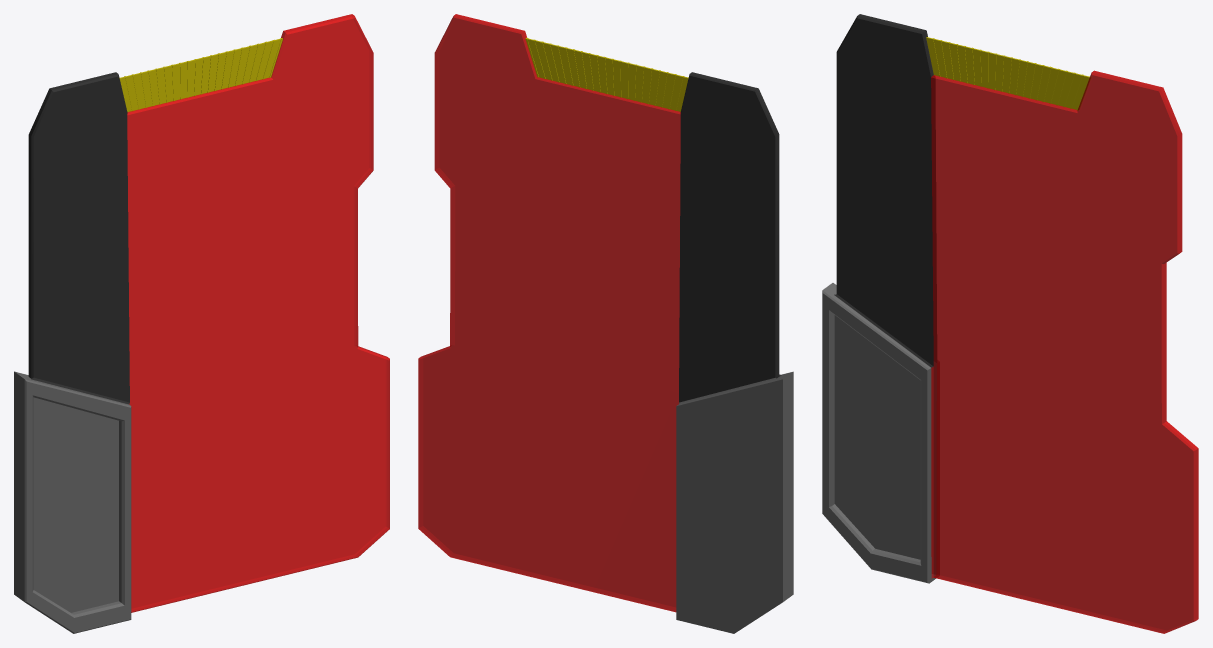
Rendered from ID Badge.fbx.
The picture shows the model from 3 angles, left to right: view 1: azimuth 30°, elevation 25°; view 2: azimuth 150°, elevation 25°; view 3: azimuth 330°, elevation 25°; orthographic projection.
Visible parts, largest first — view 1: pCube3; view 2: pCube3; view 3: pCube3.
Boxes of the visible parts, x1=… form: pCube3: x1=14, y1=14, x2=389, y2=633; pCube3: x1=418, y1=14, x2=793, y2=633; pCube3: x1=822, y1=14, x2=1198, y2=633.
Size of the model in its own units: 0.1069 by 0.1511 by 0.00568.
